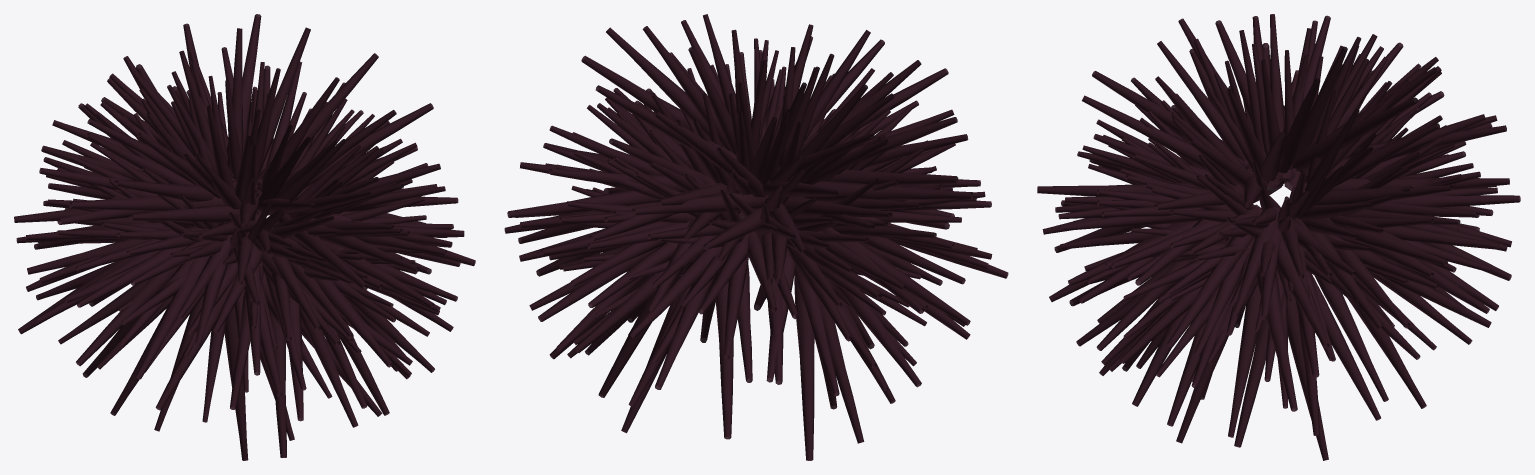
The model's file is SeaUrchin01.fbx.
3 views of the same model, side by side, from view 1: azimuth 30°, elevation 25°; view 2: azimuth 150°, elevation 25°; view 3: azimuth 270°, elevation 25° (orthographic). The views are drawn at different scales.
Visible parts, largest first — view 1: seaUrchin1Flower; view 2: seaUrchin1Flower; view 3: seaUrchin1Flower.
Boxes of the visible parts, x1=… form: seaUrchin1Flower: x1=14, y1=14, x2=475, y2=460; seaUrchin1Flower: x1=504, y1=14, x2=1008, y2=460; seaUrchin1Flower: x1=1037, y1=14, x2=1520, y2=460.
Bounding box in the file's own units: 0.2409 × 0.2098 × 0.2395.
